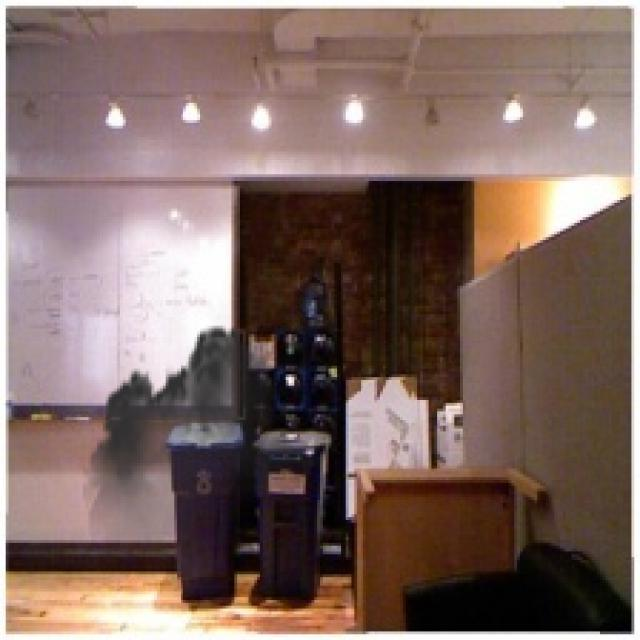Smoke: (83, 314, 323, 592)
